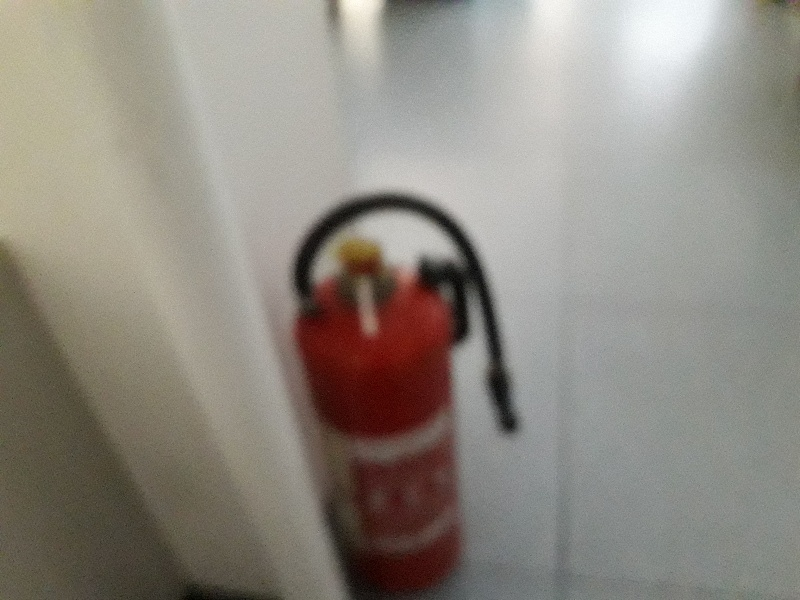vataparat: (289, 192, 519, 583)
